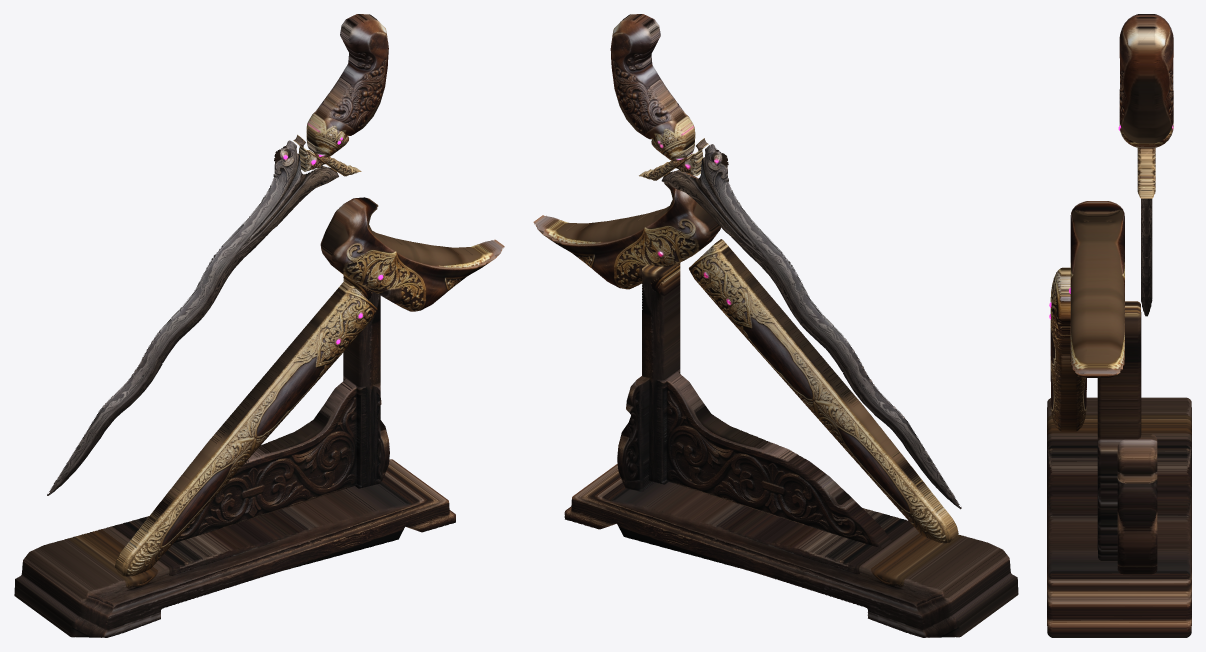
Rendered from keris.fbx.
3 views of the same model, side by side, from view 1: azimuth 30°, elevation 25°; view 2: azimuth 150°, elevation 25°; view 3: azimuth 270°, elevation 25° (orthographic). The views are drawn at different scales.
Parts seen in each view (by area): view 1: stand_base, keris_sheath, stand_panel, keris_blade, keris_ladrang, keris_hilt, stand_post, keris_mendak, keris_ganja; view 2: stand_base, keris_sheath, stand_panel, keris_blade, keris_ladrang, stand_post, keris_hilt, stand_bracket, keris_mendak, keris_ganja; view 3: stand_base, keris_ladrang, stand_post, keris_hilt, stand_bracket, keris_sheath, keris_blade, keris_ganja, keris_mendak.
Part boxes in pixels (box(x1,y1,x2,y2)): stand_base: box(14, 459, 455, 637); keris_sheath: box(115, 280, 377, 576); stand_panel: box(174, 379, 356, 542); keris_blade: box(47, 140, 338, 495); keris_ladrang: box(320, 197, 504, 311); keris_hilt: box(316, 14, 388, 135); stand_post: box(343, 275, 380, 488); keris_mendak: box(306, 111, 348, 157); keris_ganja: box(293, 134, 361, 176); stand_base: box(564, 463, 1018, 637); keris_sheath: box(689, 239, 958, 543); stand_panel: box(666, 372, 891, 548); keris_blade: box(661, 144, 961, 509); keris_ladrang: box(533, 172, 720, 289); stand_post: box(642, 263, 680, 484); keris_hilt: box(610, 14, 685, 139); stand_bracket: box(617, 376, 655, 491); keris_mendak: box(651, 114, 695, 161); keris_ganja: box(639, 138, 708, 180); stand_base: box(1047, 397, 1191, 637); keris_ladrang: box(1070, 201, 1124, 377); stand_post: box(1097, 301, 1141, 560); keris_hilt: box(1119, 14, 1173, 143); stand_bracket: box(1117, 434, 1157, 574); keris_sheath: box(1050, 267, 1086, 431); keris_blade: box(1141, 198, 1152, 316); keris_ganja: box(1137, 148, 1155, 198); keris_mendak: box(1119, 122, 1173, 147).
Bounding box in the file's own units: 0.3442 × 0.3816 × 0.08.
